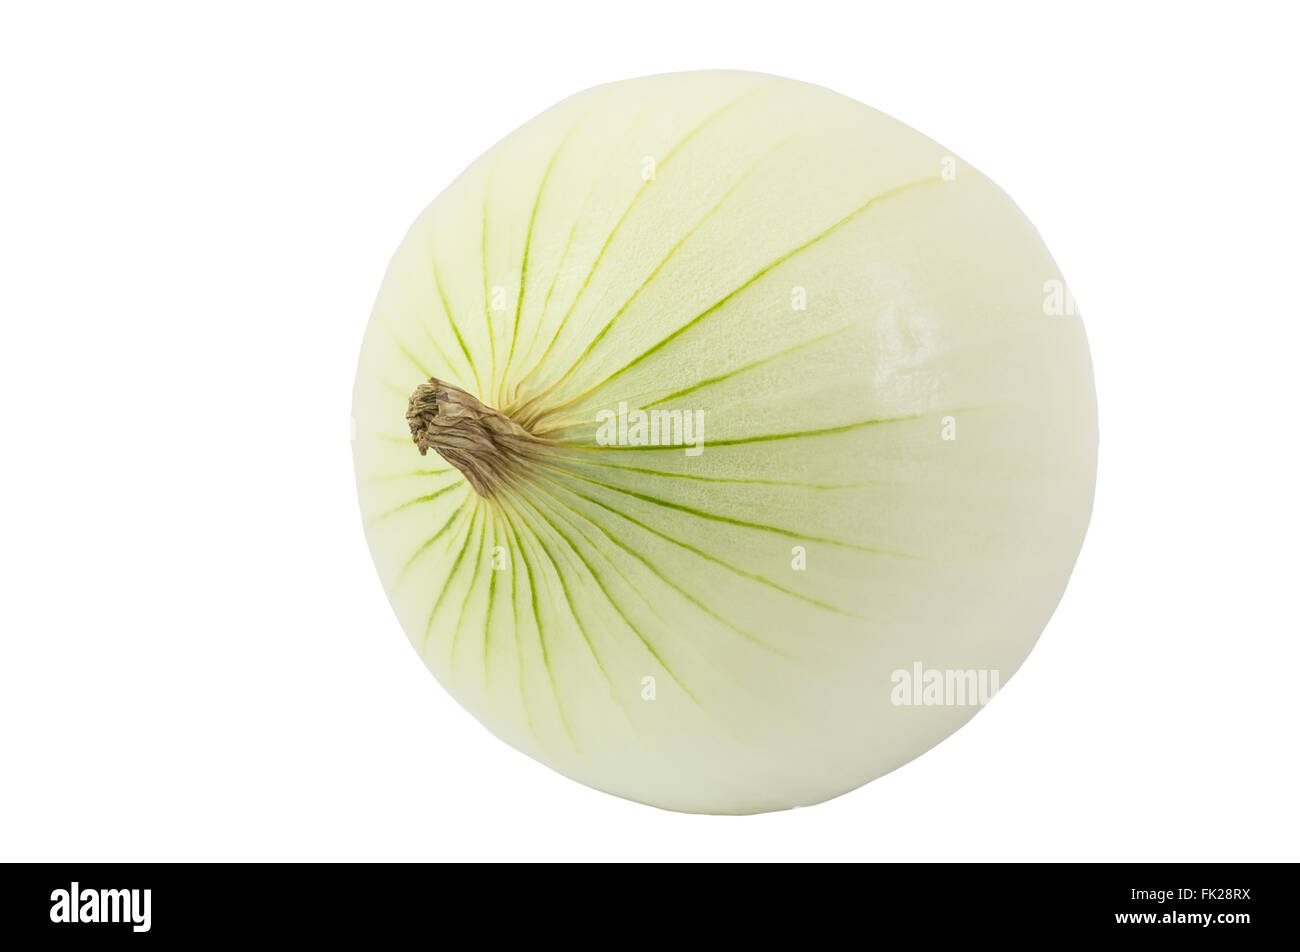onion: (251, 35, 1153, 815)
